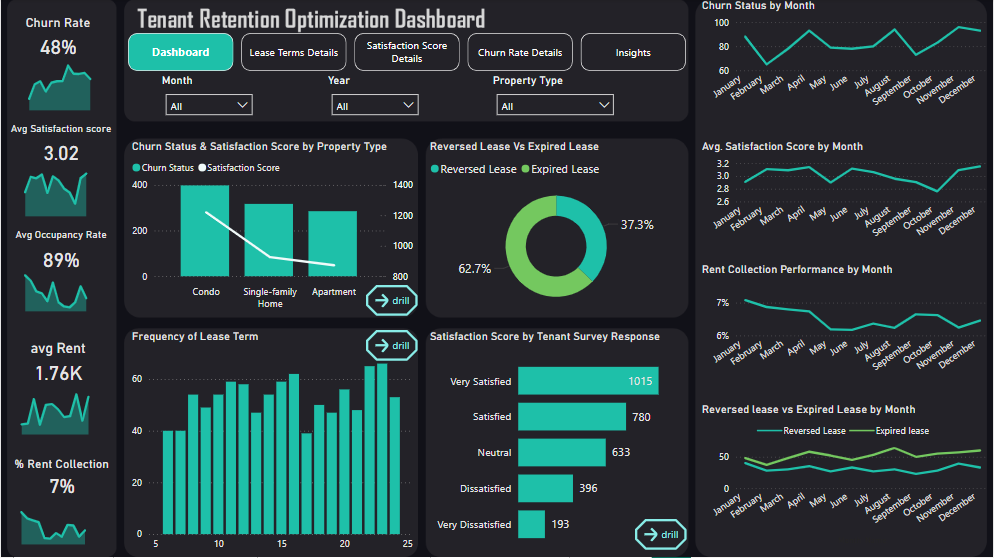

The page's visual inventory and layout, read from the dashboard file:
{"tool":"powerbi","page":{"name":"Dashboard","canvas":[1280,720],"ordinal":0},"visuals":[{"type":"card","title":"Churn Rate","fields":{"Values":["Measures Table.Churn Rate"]},"box":[14.2,21.3,119.1,62.4],"z":0},{"type":"card","title":"Avg Satisfaction score","fields":{"Values":["Measures Table.Average Satisfaction Score"]},"box":[4.3,160.2,147.4,60.9],"z":1000},{"type":"card","title":"avg Rent","fields":{"Values":["Measures Table.Average Rent"]},"box":[0,439.4,147.4,62.4],"z":2000},{"type":"card","title":"% Rent Collection","fields":{"Values":["Measures Table.Rent Collection Performance"]},"box":[8.5,589.6,138.9,56.7],"z":3000},{"type":"card","title":"Avg Occupancy Rate","fields":{"Values":["Avg(property_information.Historical Occupancy Rate decimal)"]},"box":[4.3,296.2,147.4,63.8],"z":4000},{"type":"areaChart","fields":{"Y":["Measures Table.Churn Rate"],"Category":["Start Date.Month"]},"box":[14.2,69.4,137.5,79.4],"z":5000},{"type":"areaChart","fields":{"Category":["Start Date.Month"],"Y":["Measures Table.Average Satisfaction Score"]},"box":[8.5,206.9,137.5,79.4],"z":6000},{"type":"areaChart","fields":{"Category":["Start Date.Month"],"Y":["Measures Table.Current Occupancy"]},"box":[8.5,328.8,137.5,79.4],"z":7000},{"type":"areaChart","fields":{"Category":["Start Date.Month"],"Y":["Measures Table.Average Rent"]},"box":[4.3,470.6,147.4,96.4],"z":8000},{"type":"areaChart","fields":{"Y":["Measures Table.Rent Collection Performance"],"Category":["Start Date.Month"]},"box":[4.3,632.1,141.7,76.5],"z":9000},{"type":"lineChart","title":"Churn Status by Month","fields":{"Y":["CountNonNull(Full Data.Churn Status)"],"Category":["Start Date.Month_Name"]},"box":[900,0,379.8,160.2],"z":10000},{"type":"lineChart","title":"Reversed lease vs Expired Lease by Month","fields":{"Category":["Start Date.Month_Name"],"Y":["Measures Table.Active Leases","Measures Table.Churn Leases"]},"box":[900,521.6,379.8,187.1],"z":11000},{"type":"lineChart","title":"Avg. Satisfaction Score by Month","fields":{"Category":["Start Date.Month_Name"],"Y":["Measures Table.Average Satisfaction Score"]},"box":[900,181.4,379.8,147.4],"z":12000},{"type":"lineChart","title":"Rent Collection Performance by Month","fields":{"Y":["Measures Table.Rent Collection Performance"],"Category":["Start Date.Month_Name"]},"box":[900,340.2,379.8,161.6],"z":13000},{"type":"lineClusteredColumnComboChart","title":"Churn Status & Satisfaction Score by Property Type","fields":{"Category":["property_information.Property Type"],"Y2":["Sum(tenant_information and feedback.Satisfaction Score)"],"Y":["CountNonNull(Full Data.Churn Status)"]},"box":[164.4,181.4,372.8,226.8],"z":14000},{"type":"columnChart","title":"Frequency of Lease Term ","fields":{"Category":["Full Data.Lease Term (Months)"],"Y":["CountNonNull(Full Data.Lease ID)"]},"box":[164.4,426.6,372.8,293.4],"z":15000},{"type":"donutChart","title":"Reversed Lease Vs Expired Lease","fields":{"Y":["Measures Table.Active Leases","Measures Table.Churn Leases"]},"box":[548.5,181.4,335.9,226.8],"z":16000},{"type":"barChart","title":"Satisfaction Score by Tenant Survey Response","fields":{"Category":["tenant_information and feedback.Survey Response"],"Y":["Sum(tenant_information and feedback.Satisfaction Score)"]},"box":[548.5,426.6,335.9,293.4],"z":17000},{"type":"slicer","title":"Month","fields":{"Values":["Start Date.Month_Name"]},"box":[202.7,96.4,131.8,63.8],"z":18000},{"type":"slicer","title":"Year","fields":{"Values":["Start Date.Year"]},"box":[416.7,96.4,131.8,63.8],"z":19000},{"type":"slicer","title":"Property Type","fields":{"Values":["property_information.Property Type"]},"box":[629.3,96.4,171.5,63.8],"z":20000},{"type":"pageNavigator","box":[164.4,43.9,720,49.6],"z":21000},{"type":"actionButton","box":[470.6,368.5,66.6,39.7],"z":22000},{"type":"actionButton","box":[470.6,426.6,66.6,39.7],"z":23000},{"type":"actionButton","box":[817.8,670.4,66.6,39.7],"z":24000}]}

Visuals, with their boxes in screenshot pixels (x1, y1, x2, y2), scaled from the page's 1280x720 canvas onto the 994x558 screenshot:
"Churn Rate" card: BBox(11, 17, 104, 65)
"Avg Satisfaction score" card: BBox(3, 124, 118, 171)
"avg Rent" card: BBox(0, 341, 114, 389)
"% Rent Collection" card: BBox(7, 457, 114, 501)
"Avg Occupancy Rate" card: BBox(3, 230, 118, 279)
areaChart - Measures Table.Churn Rate x Start Date.Month: BBox(11, 54, 118, 115)
areaChart - Start Date.Month x Measures Table.Average Satisfaction Score: BBox(7, 160, 113, 222)
areaChart - Start Date.Month x Measures Table.Current Occupancy: BBox(7, 255, 113, 316)
areaChart - Start Date.Month x Measures Table.Average Rent: BBox(3, 365, 118, 439)
areaChart - Measures Table.Rent Collection Performance x Start Date.Month: BBox(3, 490, 113, 549)
"Churn Status by Month" lineChart: BBox(699, 0, 993, 124)
"Reversed lease vs Expired Lease by Month" lineChart: BBox(699, 404, 993, 549)
"Avg. Satisfaction Score by Month" lineChart: BBox(699, 141, 993, 255)
"Rent Collection Performance by Month" lineChart: BBox(699, 264, 993, 389)
"Churn Status & Satisfaction Score by Property Type" lineClusteredColumnComboChart: BBox(128, 141, 417, 316)
"Frequency of Lease Term " columnChart: BBox(128, 331, 417, 557)
"Reversed Lease Vs Expired Lease" donutChart: BBox(426, 141, 687, 316)
"Satisfaction Score by Tenant Survey Response" barChart: BBox(426, 331, 687, 557)
"Month" slicer: BBox(157, 75, 260, 124)
"Year" slicer: BBox(324, 75, 426, 124)
"Property Type" slicer: BBox(489, 75, 622, 124)
pageNavigator: BBox(128, 34, 687, 72)
actionButton: BBox(365, 286, 417, 316)
actionButton: BBox(365, 331, 417, 361)
actionButton: BBox(635, 520, 687, 550)
